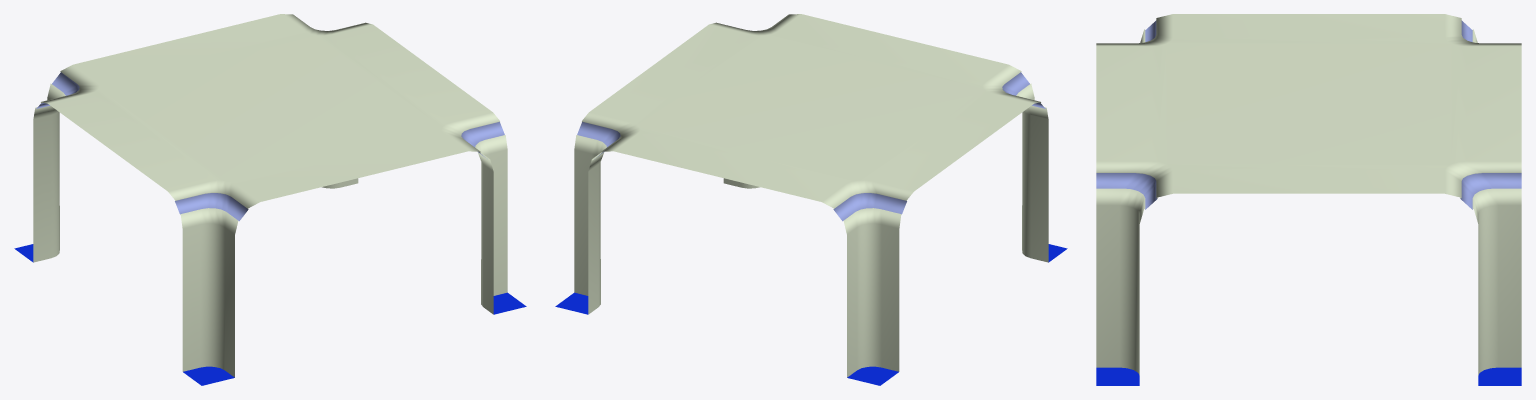
Rendered from Wall_Island_Cross.fbx.
3 views of the same model, side by side, from view 1: azimuth 30°, elevation 25°; view 2: azimuth 150°, elevation 25°; view 3: azimuth 270°, elevation 25° (orthographic). The views are drawn at different scales.
Visible parts, largest first — view 1: Wall_Island_Cross; view 2: Wall_Island_Cross; view 3: Wall_Island_Cross.
Part boxes in pixels (<box>): Wall_Island_Cross: <box>14,14,526,385</box>; Wall_Island_Cross: <box>555,14,1067,385</box>; Wall_Island_Cross: <box>1096,14,1521,385</box>.
Bounding box in the file's own units: 100 × 49.85 × 100.
